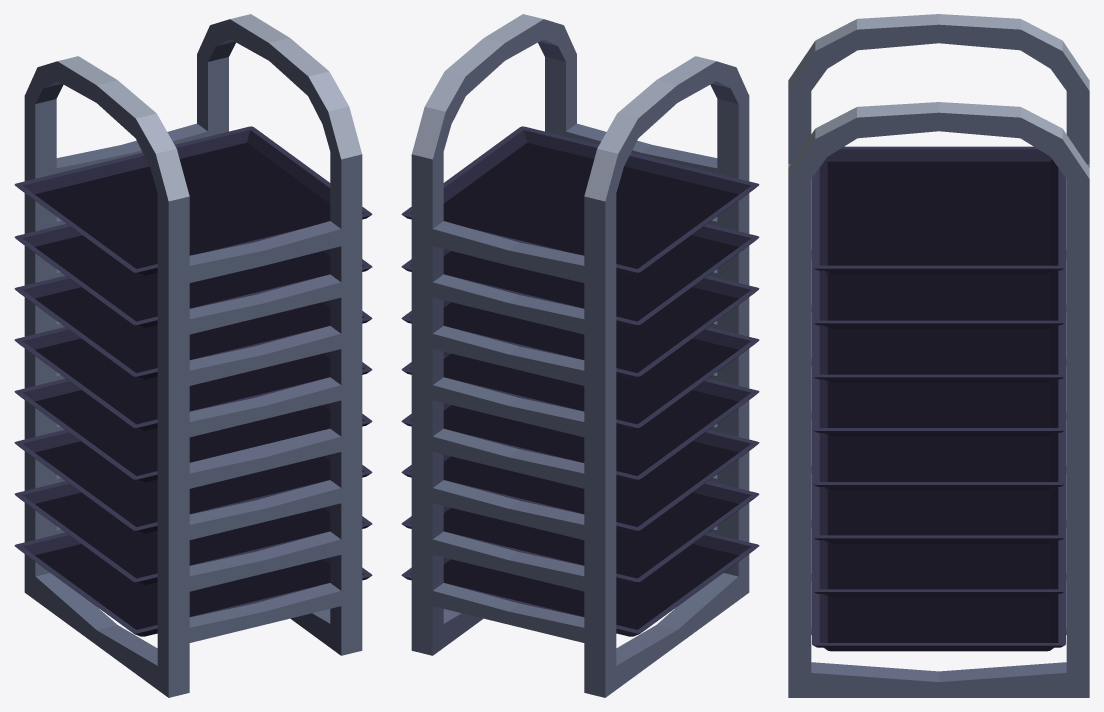
The model's file is f_traysandtrayholder.fbx.
3 views of the same model, side by side, from view 1: azimuth 30°, elevation 25°; view 2: azimuth 150°, elevation 25°; view 3: azimuth 270°, elevation 25° (orthographic). The views are drawn at different scales.
Parts seen in each view (by area): view 1: f_trayholder, f_tray_01, f_tray_02, f_tray_03, f_tray_08, f_tray_07, f_tray_04, f_tray_06, f_tray_05; view 2: f_trayholder, f_tray_01, f_tray_02, f_tray_05, f_tray_03, f_tray_08, f_tray_07, f_tray_04, f_tray_06; view 3: f_trayholder, f_tray_01, f_tray_02, f_tray_05, f_tray_08, f_tray_03, f_tray_07, f_tray_04, f_tray_06.
Boxes of the visible parts, left/top/right/bottom form: f_trayholder: left=24, top=14, right=362, bottom=697; f_tray_01: left=14, top=126, right=372, bottom=275; f_tray_02: left=14, top=223, right=372, bottom=328; f_tray_03: left=14, top=275, right=372, bottom=379; f_tray_08: left=14, top=532, right=372, bottom=636; f_tray_07: left=14, top=481, right=372, bottom=585; f_tray_04: left=14, top=327, right=372, bottom=431; f_tray_06: left=14, top=429, right=372, bottom=533; f_tray_05: left=14, top=378, right=372, bottom=482; f_trayholder: left=411, top=14, right=749, bottom=697; f_tray_01: left=401, top=126, right=759, bottom=275; f_tray_02: left=401, top=223, right=759, bottom=328; f_tray_05: left=401, top=378, right=759, bottom=482; f_tray_03: left=401, top=275, right=759, bottom=379; f_tray_08: left=401, top=532, right=759, bottom=636; f_tray_07: left=401, top=481, right=759, bottom=585; f_tray_04: left=401, top=327, right=759, bottom=431; f_tray_06: left=401, top=429, right=759, bottom=533; f_trayholder: left=788, top=14, right=1089, bottom=697; f_tray_01: left=812, top=146, right=1065, bottom=274; f_tray_02: left=812, top=267, right=1065, bottom=328; f_tray_05: left=812, top=430, right=1065, bottom=490; f_tray_08: left=812, top=591, right=1065, bottom=651; f_tray_03: left=812, top=322, right=1065, bottom=382; f_tray_07: left=812, top=537, right=1065, bottom=597; f_tray_04: left=812, top=376, right=1065, bottom=436; f_tray_06: left=812, top=484, right=1065, bottom=543.
Bounding box in the file's own units: 1 × 1.05 × 2.25.
